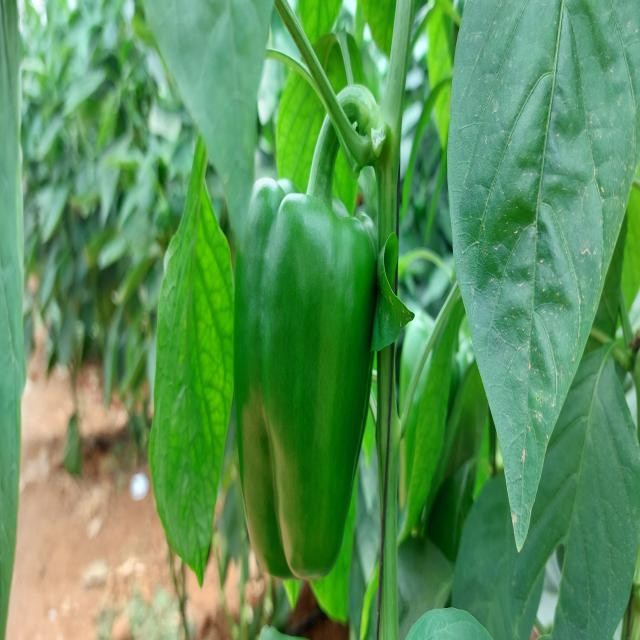Green--Not-ready-to-harvest: (229, 183, 384, 585)
